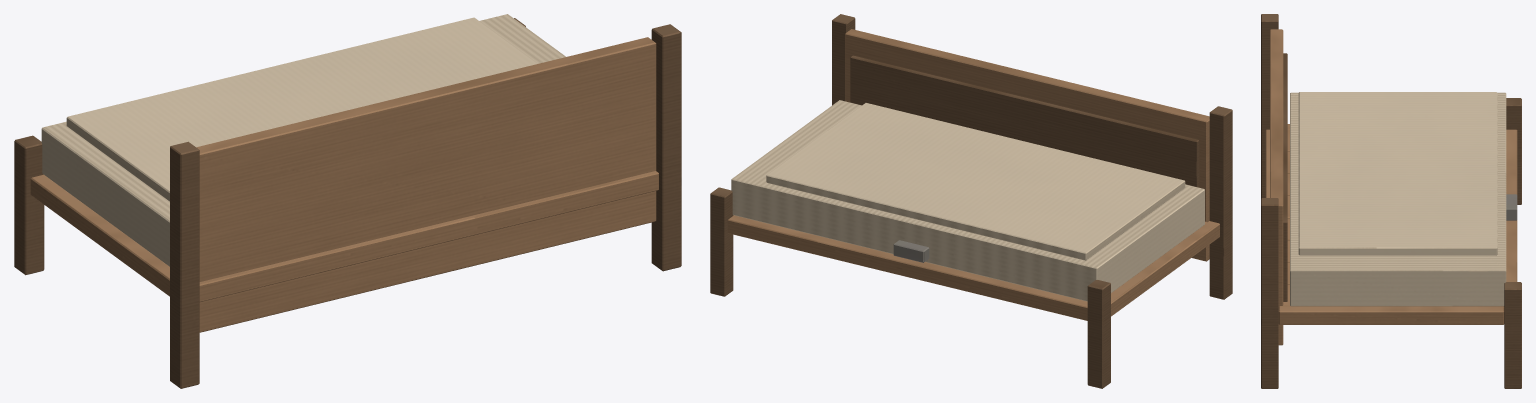
The model's file is furn_bed.glb.
3 views of the same model, side by side, from view 1: azimuth 30°, elevation 25°; view 2: azimuth 150°, elevation 25°; view 3: azimuth 270°, elevation 25° (orthographic). The views are drawn at different scales.
Parts seen in each view (by area): view 1: furn_bed; view 2: furn_bed; view 3: furn_bed.
Part boxes in pixels (left/top/right/bottom): furn_bed: left=14, top=14, right=681, bottom=388; furn_bed: left=710, top=14, right=1232, bottom=388; furn_bed: left=1261, top=14, right=1521, bottom=388.
Bounding box in the file's own units: 2.05 × 0.92 × 1.18.
1 material, 1 textured.
